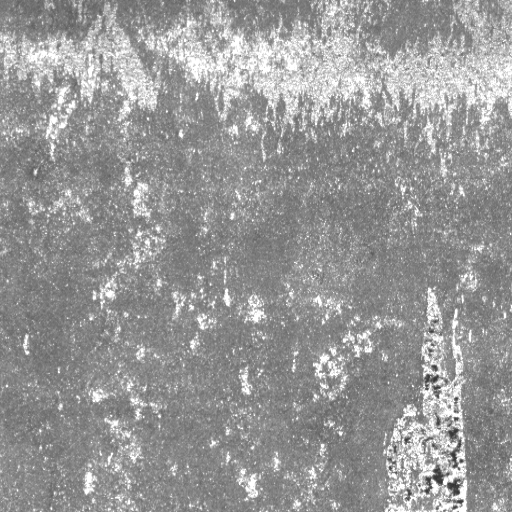qiaopi: (382, 283, 470, 512)
